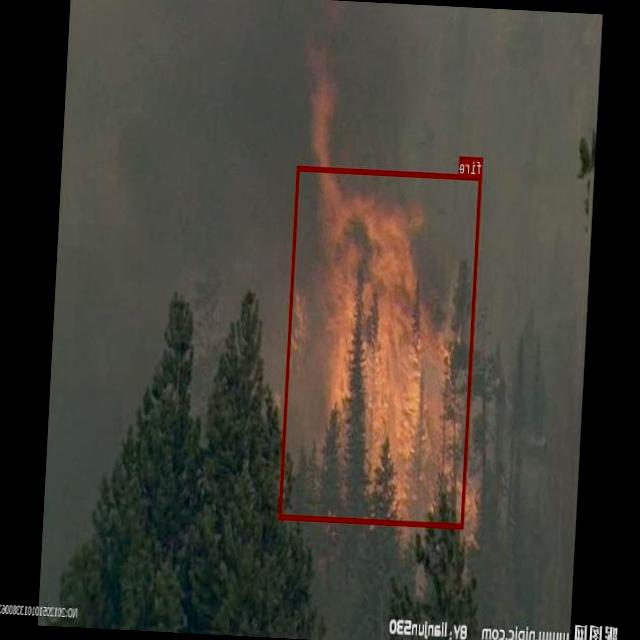fire: (279, 165, 482, 528)
